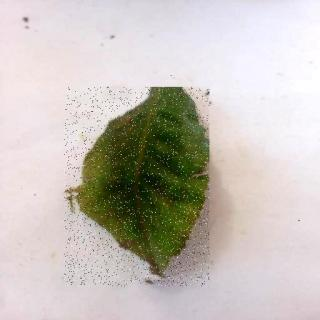Brown Blight: (66, 88, 211, 288)
